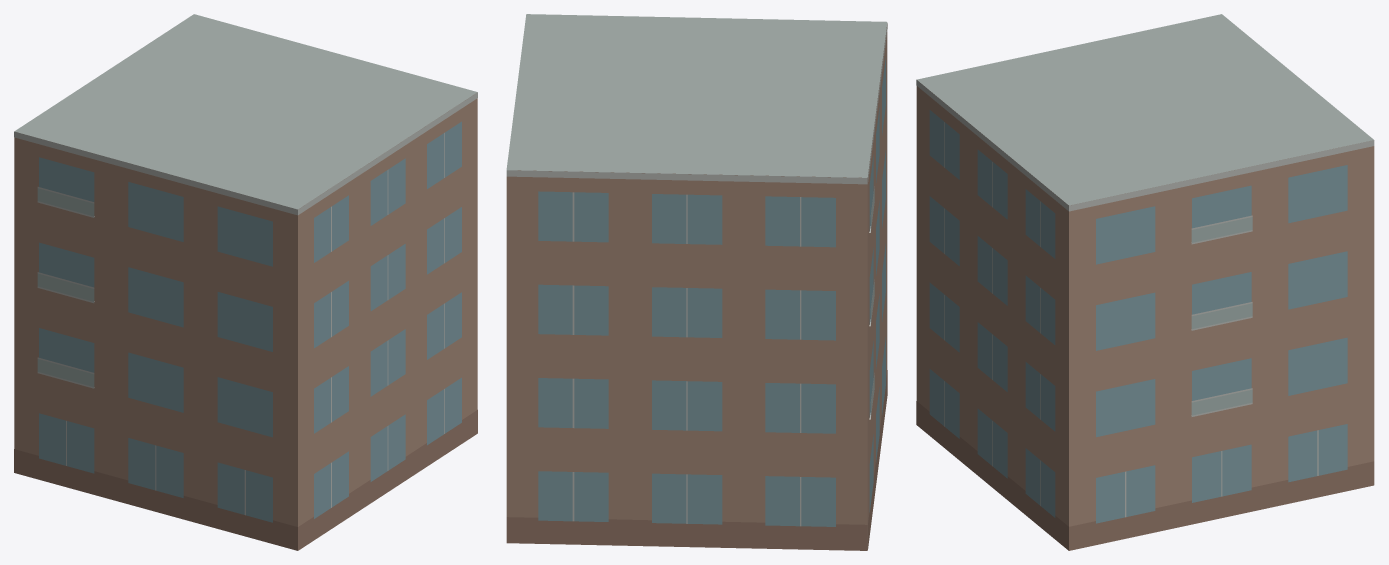
The model's file is survey-upis-32864679.glb.
3 renders of one model, left to right at view 1: azimuth 30°, elevation 25°; view 2: azimuth 150°, elevation 25°; view 3: azimuth 270°, elevation 25°, orthographic. The views are drawn at different scales.
Parts seen in each view (by area): view 1: survey-upis-32864679.tmp; view 2: survey-upis-32864679.tmp; view 3: survey-upis-32864679.tmp.
Boxes of the visible parts, x1,y1,x2,y2 form: survey-upis-32864679.tmp: (14,14,477,550); survey-upis-32864679.tmp: (506,14,887,550); survey-upis-32864679.tmp: (916,14,1374,550).
Size of the model in its own units: 16.78 by 14.1 by 16.95.
